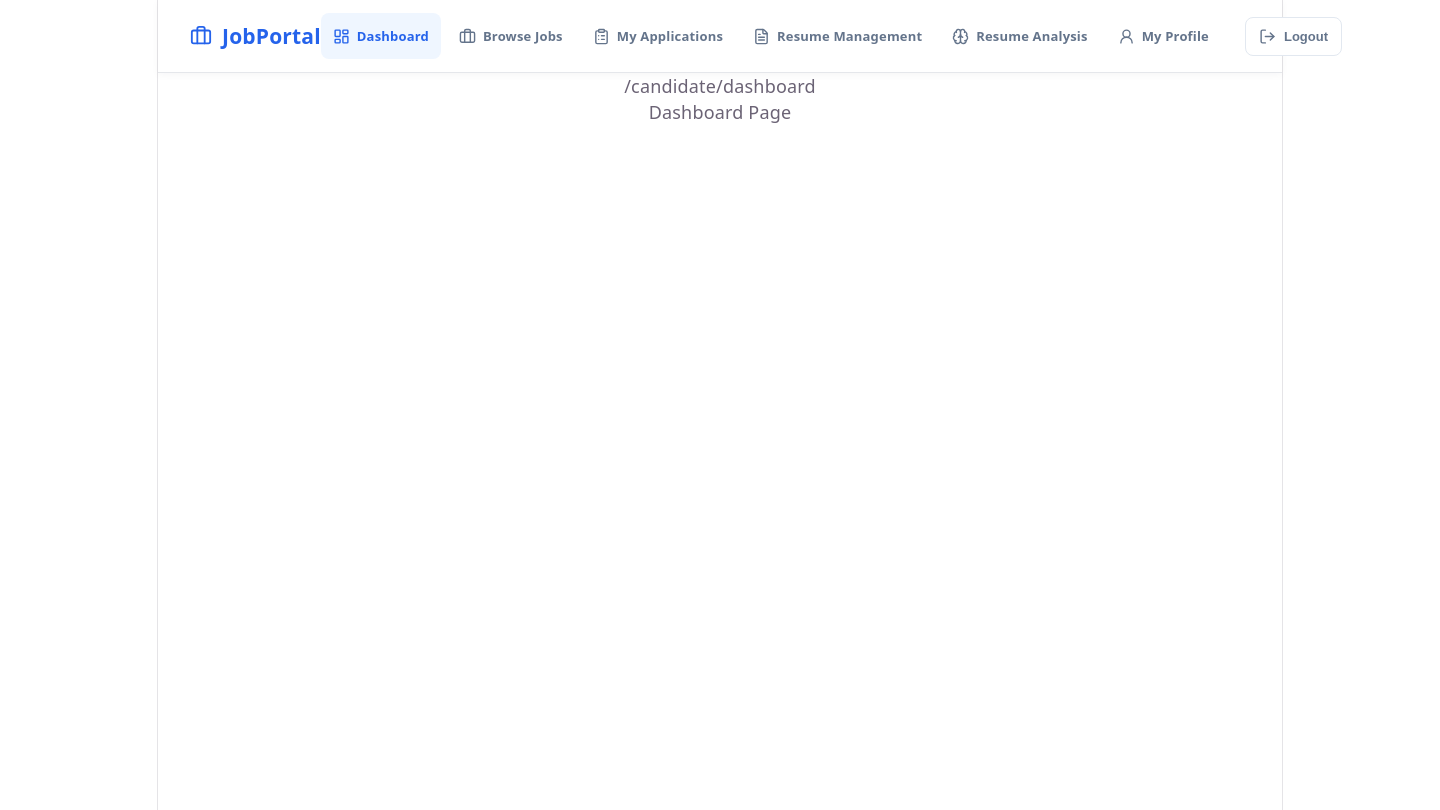
Test: CandidateNavbar › navigates to My Applications
Click the link "My Applications" at (658, 36), box [593, 27, 723, 45]
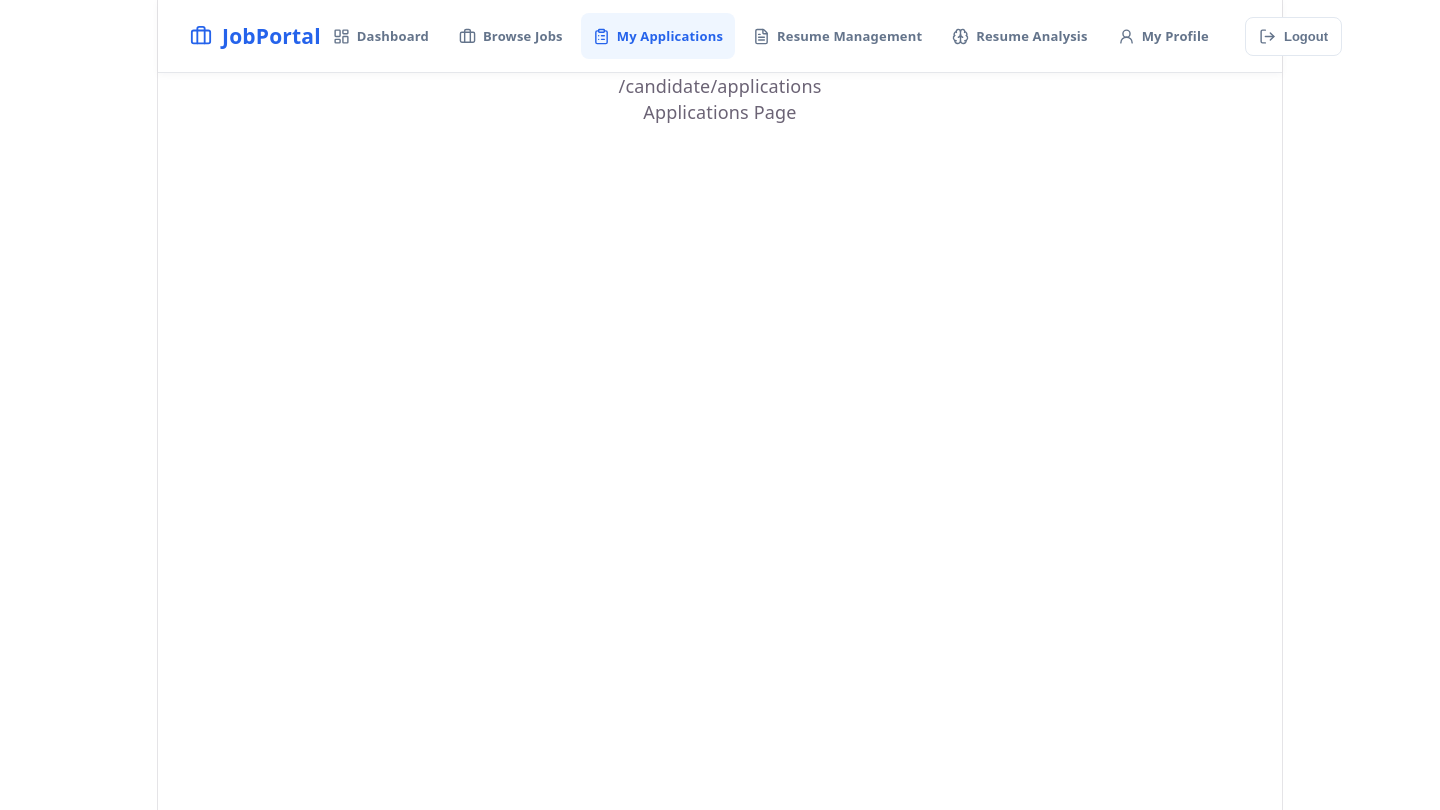
Check: the text with test id "current-location" reads "/candidate/applications", box [618, 74, 822, 98]
